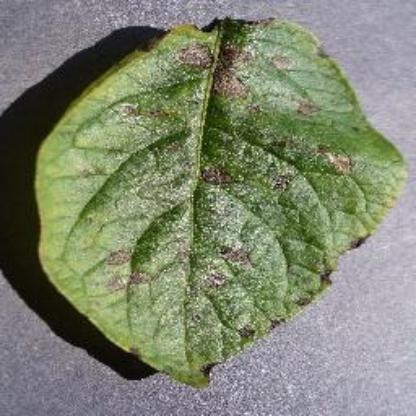Early-Blight: (30, 15, 410, 387)
